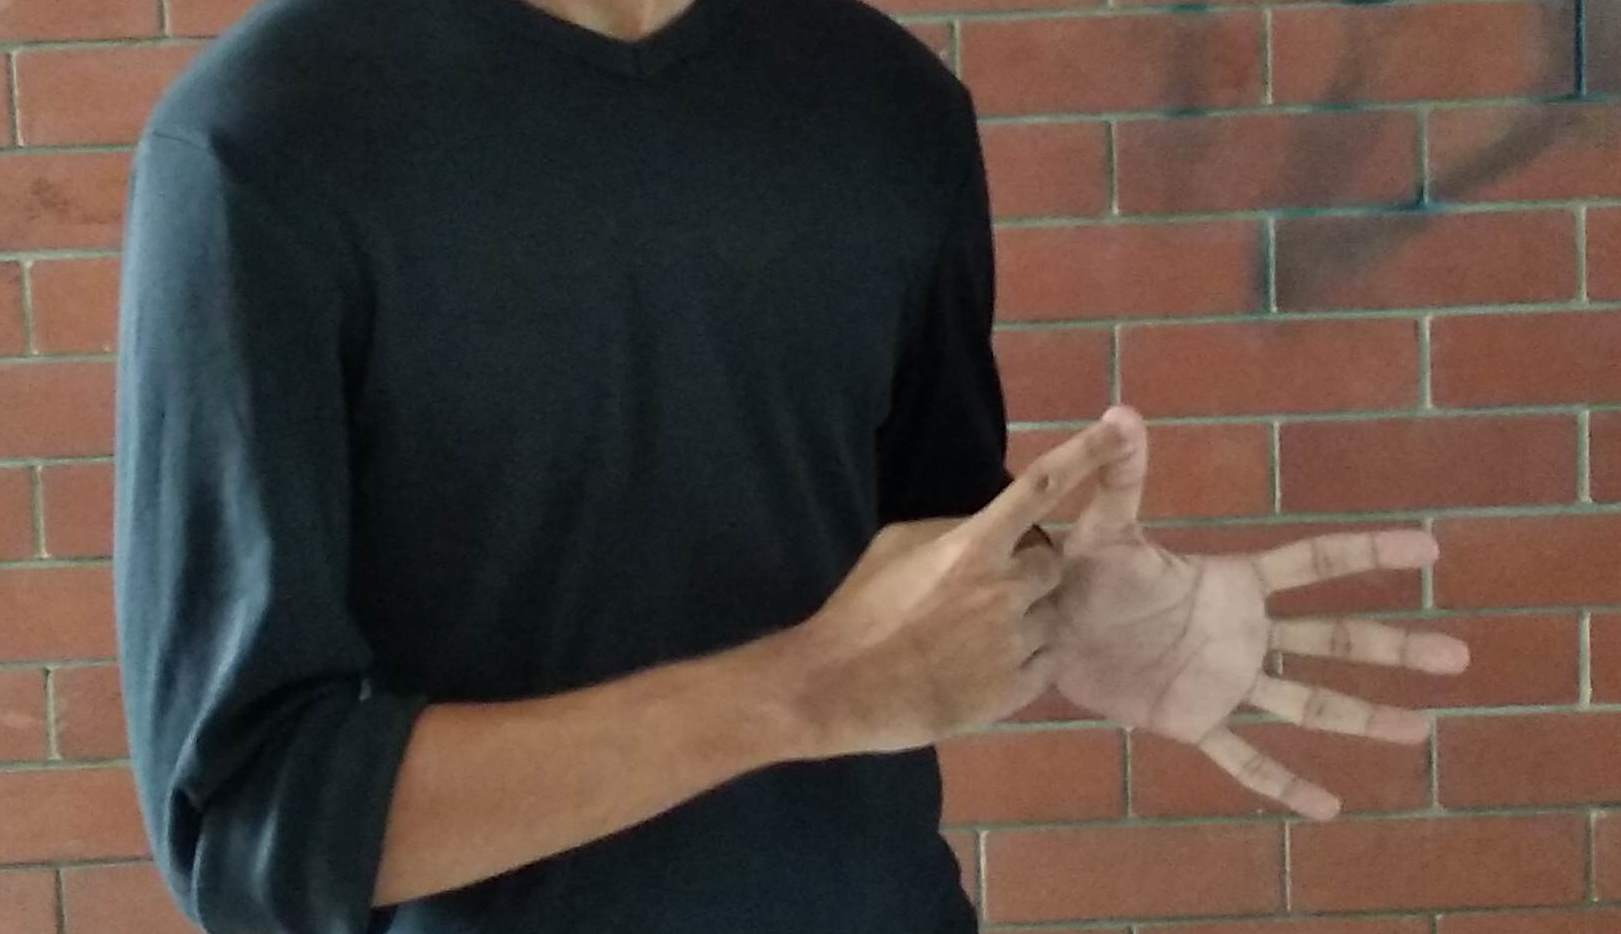a: (900, 396, 1435, 809)
